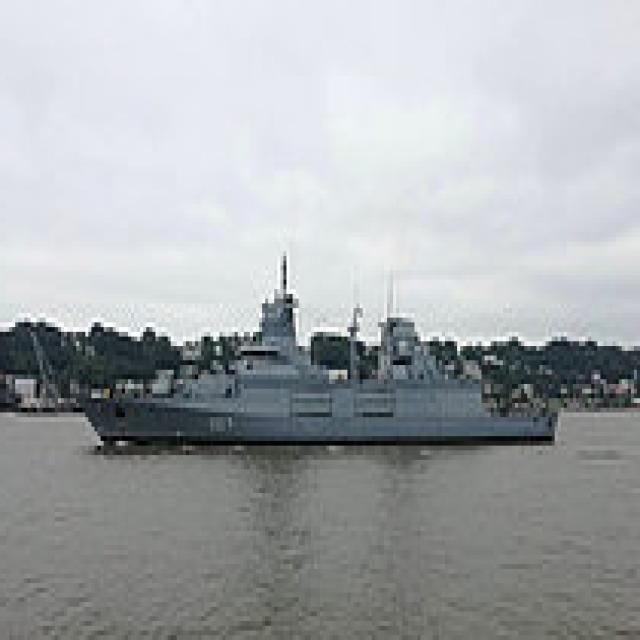Warship: (76, 242, 564, 446)
